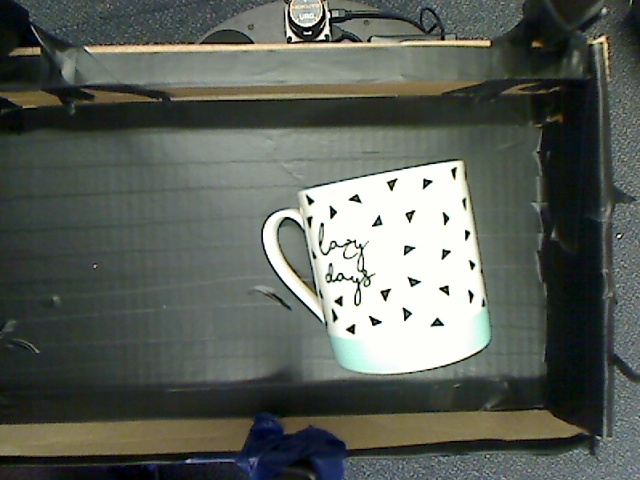mug: (257, 142, 497, 374)
